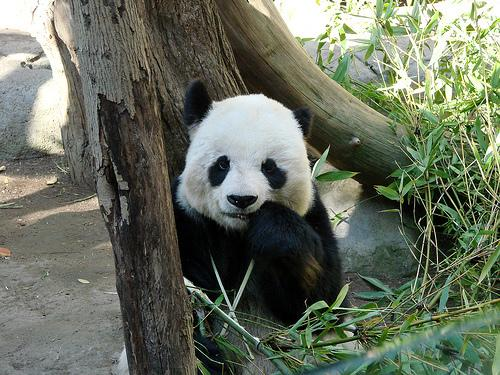panda: (171, 80, 341, 324)
